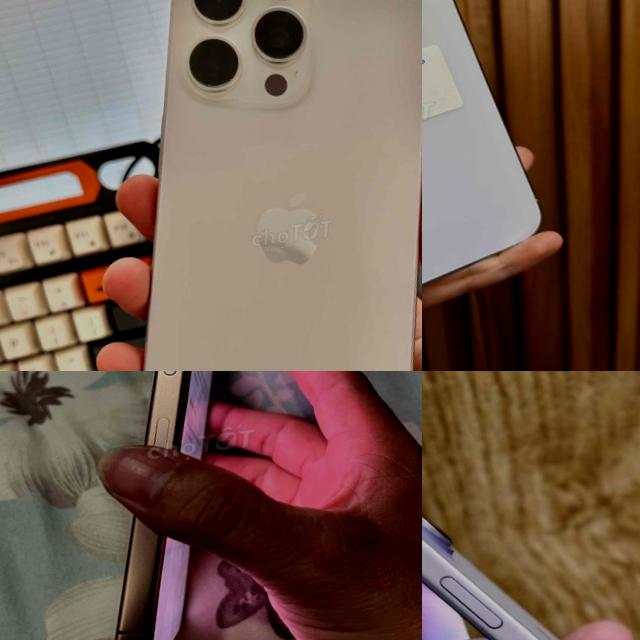gen_14: (422, 0, 553, 320)
gen_15: (79, 0, 422, 371)
gen_16: (48, 371, 289, 640)
gen_17: (422, 514, 560, 640)
